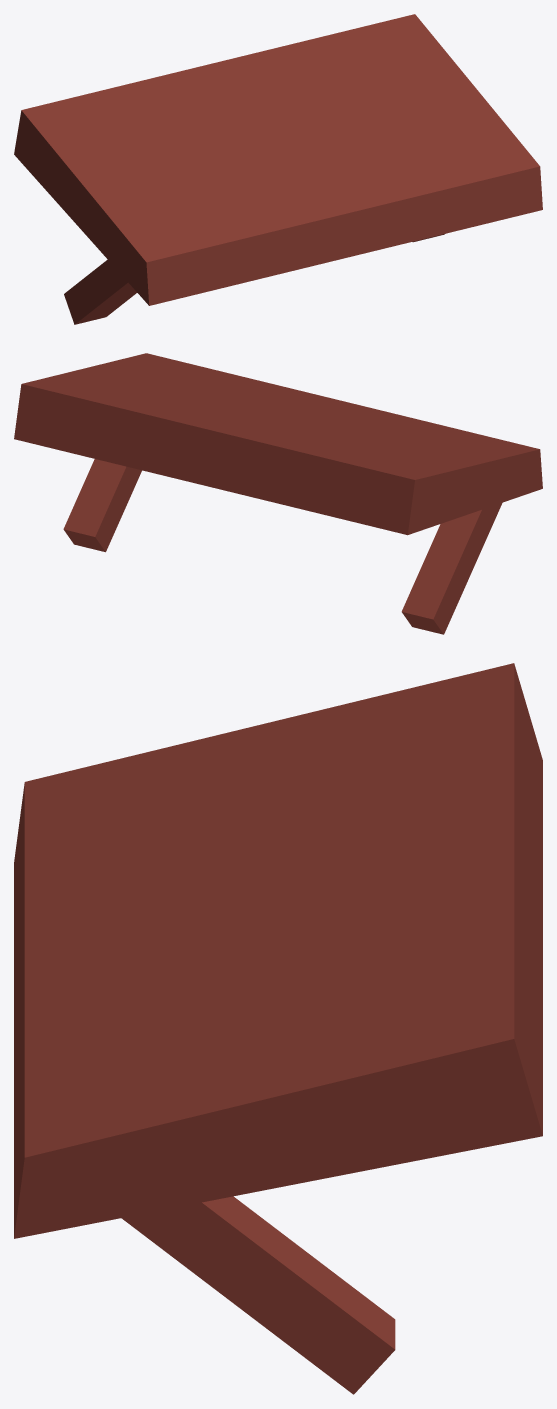
File: eaves_2.fbx
The picture shows the model from 3 angles, top to bottom: view 1: azimuth 30°, elevation 25°; view 2: azimuth 150°, elevation 25°; view 3: azimuth 270°, elevation 25°; orthographic projection. The views are drawn at different scales.
Visible parts, largest first — view 1: eaves_2; view 2: eaves_2; view 3: eaves_2.
Boxes of the visible parts, x1=… form: eaves_2: x1=14, y1=14, x2=542, y2=324; eaves_2: x1=14, y1=353, x2=542, y2=634; eaves_2: x1=14, y1=663, x2=542, y2=1394.
Bounding box in the file's own units: 177 × 80.58 × 105.
